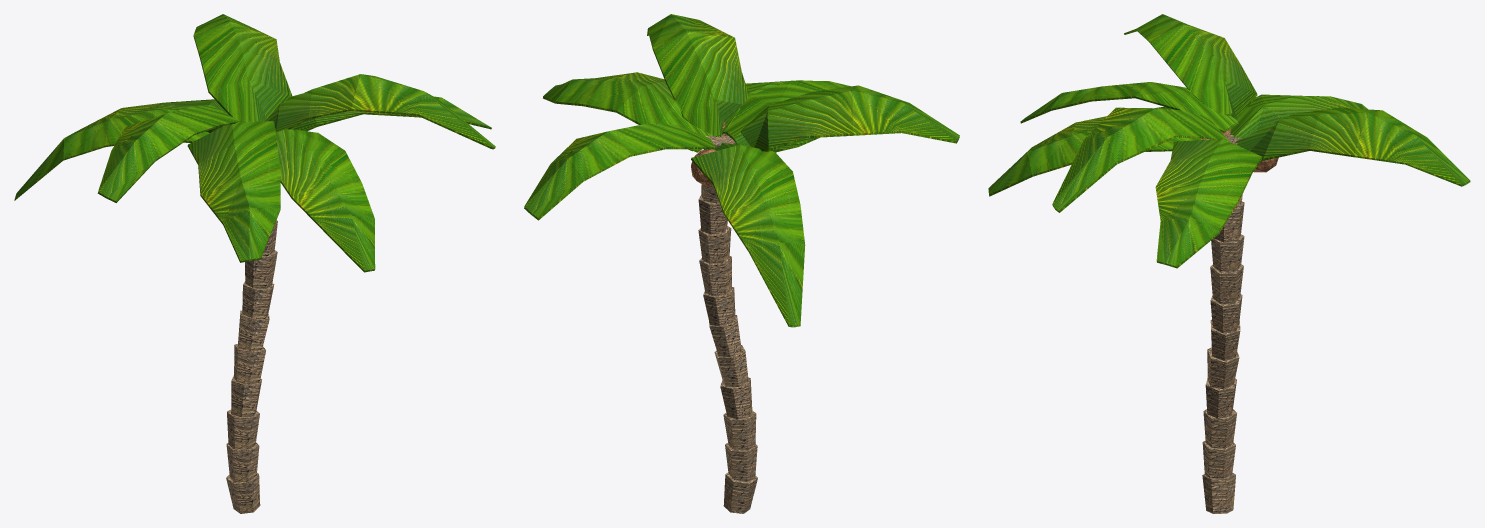
Rendered from single_tree.obj.
The picture shows the model from 3 angles, left to right: view 1: azimuth 30°, elevation 25°; view 2: azimuth 150°, elevation 25°; view 3: azimuth 270°, elevation 25°; orthographic projection. The views are drawn at different scales.
Visible parts, largest first — view 1: single_tree_single_tree_Material.004, single_tree_single_tree_single_tree_Palm_brown; view 2: single_tree_single_tree_Material.004, single_tree_single_tree_single_tree_Palm_brown; view 3: single_tree_single_tree_Material.004, single_tree_single_tree_single_tree_Palm_brown.
Boxes of the visible parts, x1,y1,x2,y2 form: single_tree_single_tree_Material.004: [14, 14, 495, 272]; single_tree_single_tree_single_tree_Palm_brown: [226, 220, 277, 513]; single_tree_single_tree_Material.004: [524, 14, 959, 327]; single_tree_single_tree_single_tree_Palm_brown: [698, 135, 757, 513]; single_tree_single_tree_Material.004: [988, 14, 1470, 268]; single_tree_single_tree_single_tree_Palm_brown: [1202, 135, 1244, 513].
Bounding box in the file's own units: 8.55 × 8.9 × 8.75.
